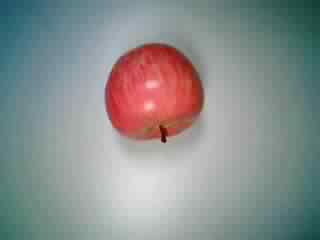apple: (100, 41, 204, 145)
